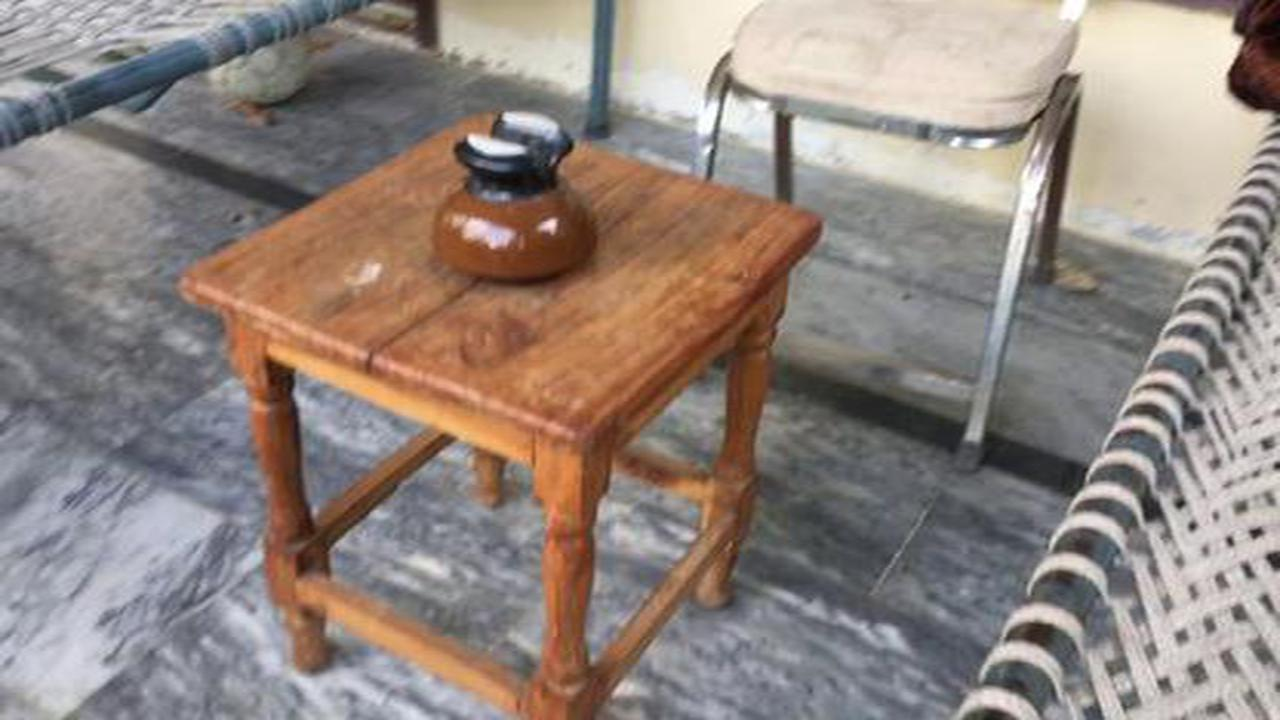insulator_pin: (428, 86, 622, 296)
